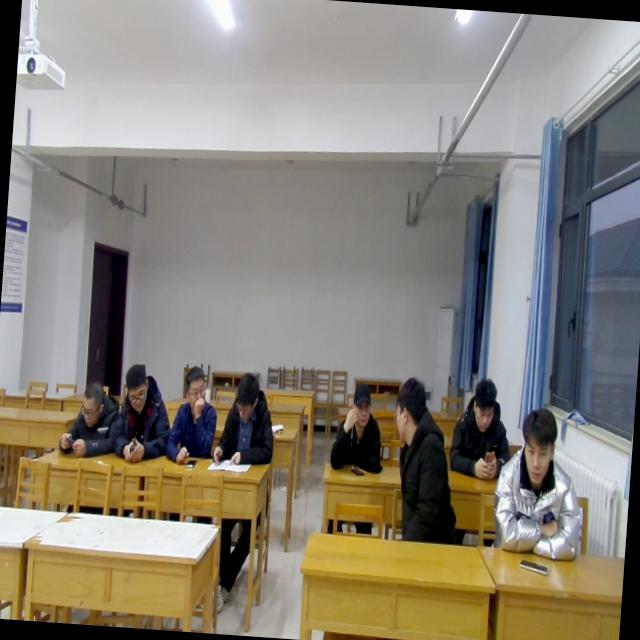bow: (58, 378, 120, 458)
down: (467, 376, 499, 436), (230, 366, 262, 422), (120, 358, 150, 412), (77, 377, 104, 427)
lookup: (514, 406, 558, 494), (348, 376, 376, 431)
sit: (490, 406, 589, 566), (384, 374, 467, 542), (324, 379, 386, 534), (448, 378, 518, 480), (106, 362, 174, 465), (212, 369, 280, 468), (166, 364, 222, 466)
